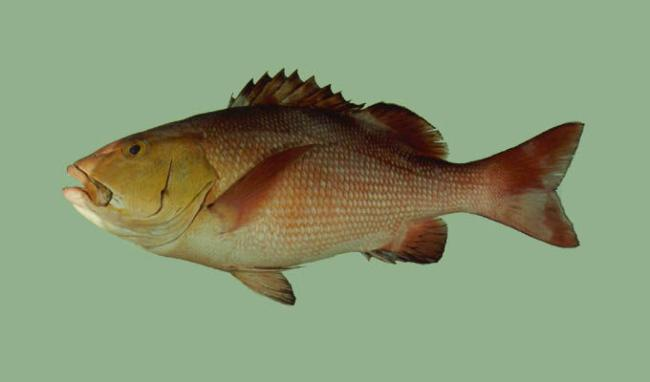fish: (61, 69, 586, 307)
